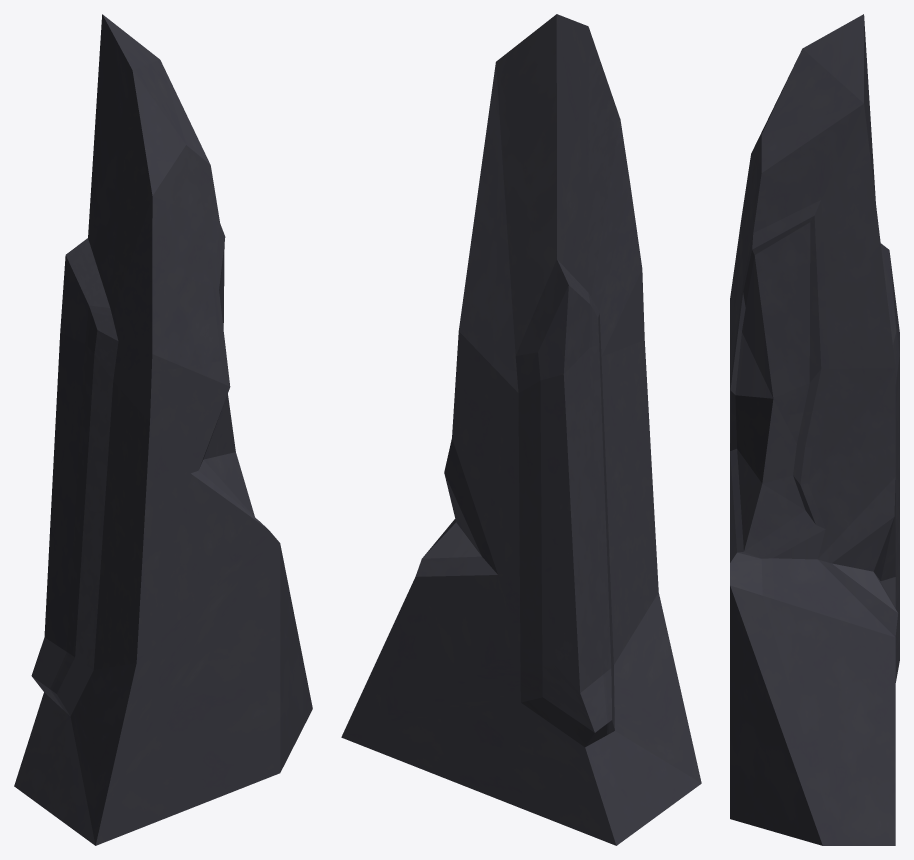
File: stonicle 1.fbx
3 renders of one model, left to right at view 1: azimuth 30°, elevation 25°; view 2: azimuth 150°, elevation 25°; view 3: azimuth 270°, elevation 25°, orthographic. The views are drawn at different scales.
Parts seen in each view (by area): view 1: Cube.005; view 2: Cube.005; view 3: Cube.005.
Boxes of the visible parts, x1,y1,x2,y2 form: Cube.005: (14,14,312,845); Cube.005: (341,14,701,845); Cube.005: (730,14,899,845).
Bounding box in the file's own units: 373 × 1037 × 205.
